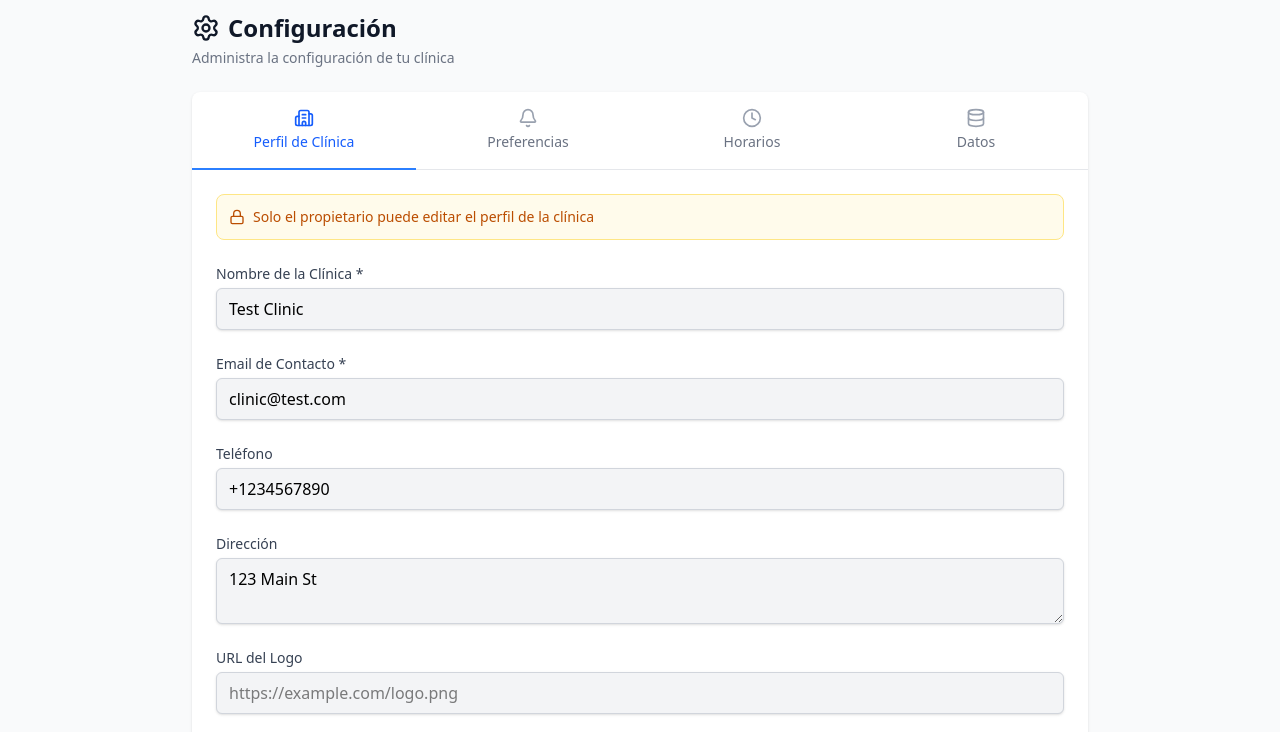
SettingsPage › should not allow STAFF to access data export
Click the button "Datos": click(976, 131) [864, 92, 1088, 170]
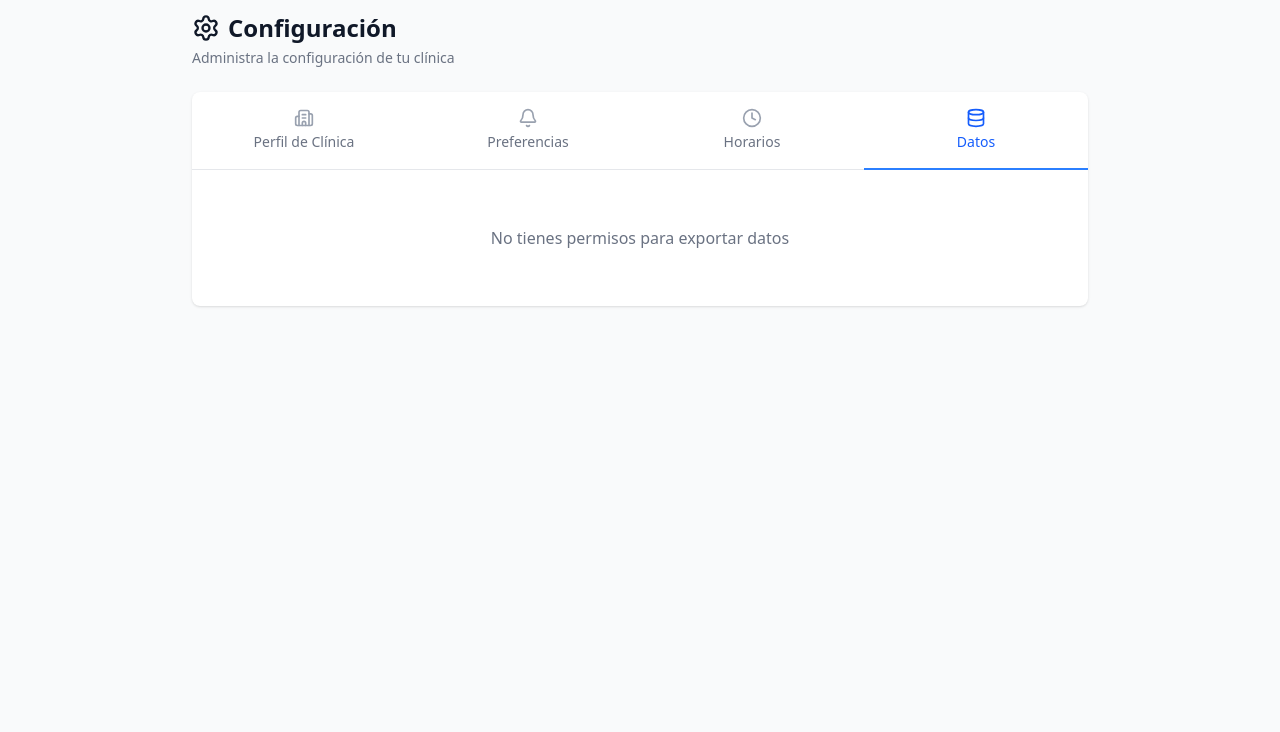
Result: the text "No tienes permisos para exportar datos" is shown at [491, 227, 789, 249]
